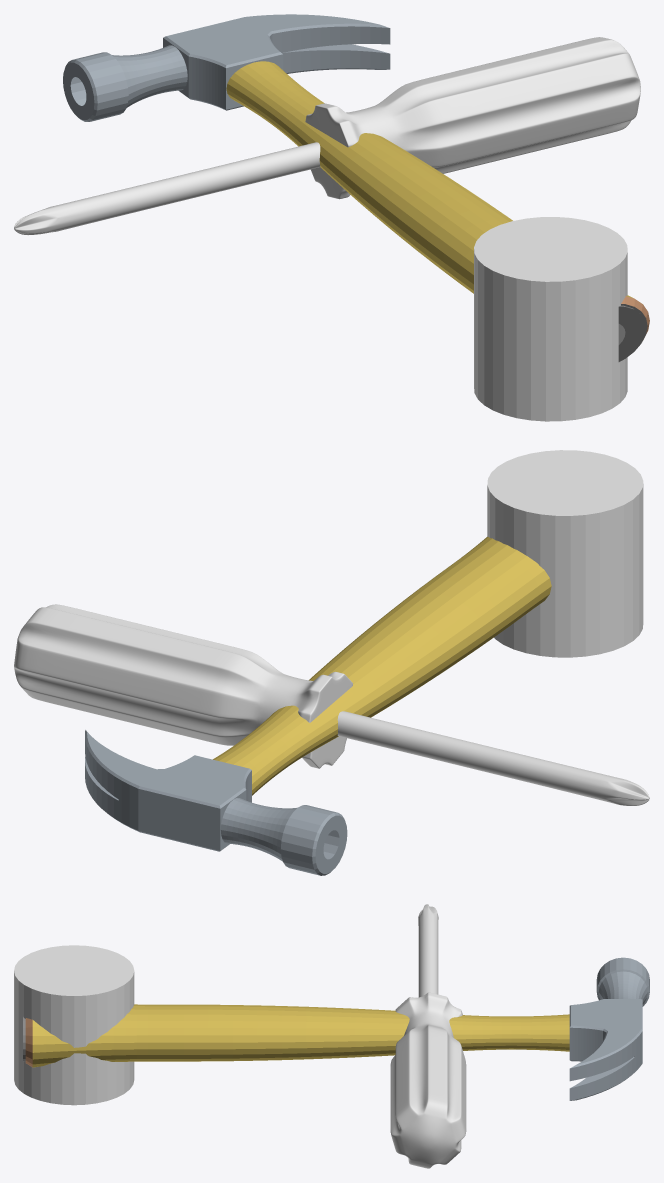
Rendered from screwdriver_hammer2.dae.
3 views of the same model, one above another, from view 1: azimuth 30°, elevation 25°; view 2: azimuth 150°, elevation 25°; view 3: azimuth 270°, elevation 25° (orthographic). The views are drawn at different scales.
Visible parts, largest first — view 1: skpC7C7_008, 10304_Phillips_Head_ Screwdriver_v1_iterations-2, Cylinder; view 2: skpC7C7_008, 10304_Phillips_Head_ Screwdriver_v1_iterations-2, Cylinder; view 3: skpC7C7_008, Cylinder, 10304_Phillips_Head_ Screwdriver_v1_iterations-2.
Part boxes in pixels (left/top/right/bottom): skpC7C7_008: left=63, top=14, right=649, bottom=361; 10304_Phillips_Head_ Screwdriver_v1_iterations-2: left=14, top=37, right=640, bottom=235; Cylinder: left=474, top=217, right=627, bottom=421; skpC7C7_008: left=85, top=537, right=551, bottom=875; 10304_Phillips_Head_ Screwdriver_v1_iterations-2: left=14, top=604, right=649, bottom=805; Cylinder: left=487, top=450, right=643, bottom=657; skpC7C7_008: left=23, top=957, right=649, bottom=1100; Cylinder: left=14, top=945, right=134, bottom=1105; 10304_Phillips_Head_ Screwdriver_v1_iterations-2: left=390, top=904, right=466, bottom=1168.
Bounding box in the file's own units: 0.2977 × 0.3396 × 0.0643.
